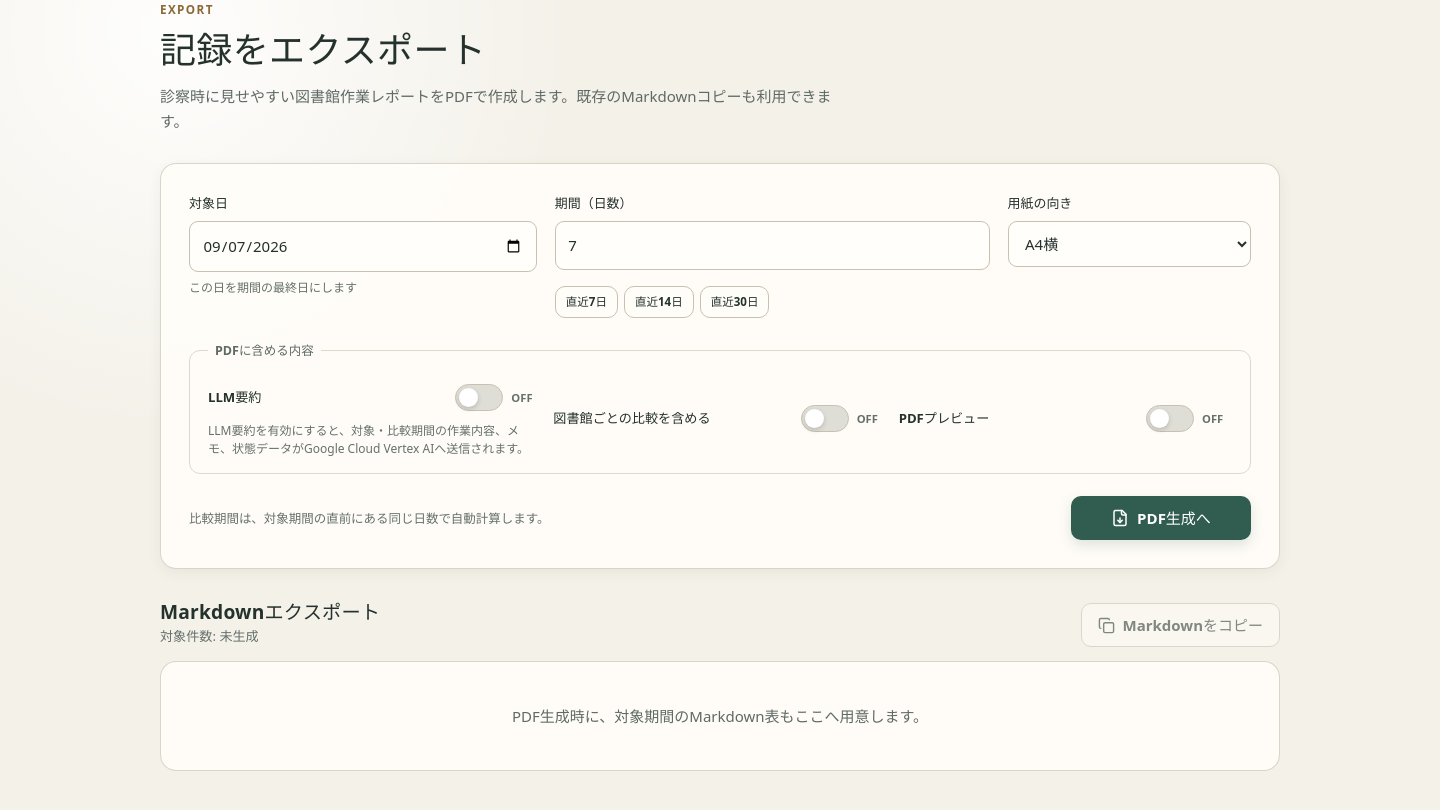
ExportPage › LLM OFFでは一度も要約を呼ばず、直接PDFを生成してMarkdownも維持する
This screenshot has width=1440, height=810.
Click the button "PDF生成へ" at (1161, 518), box [1071,496,1251,540]
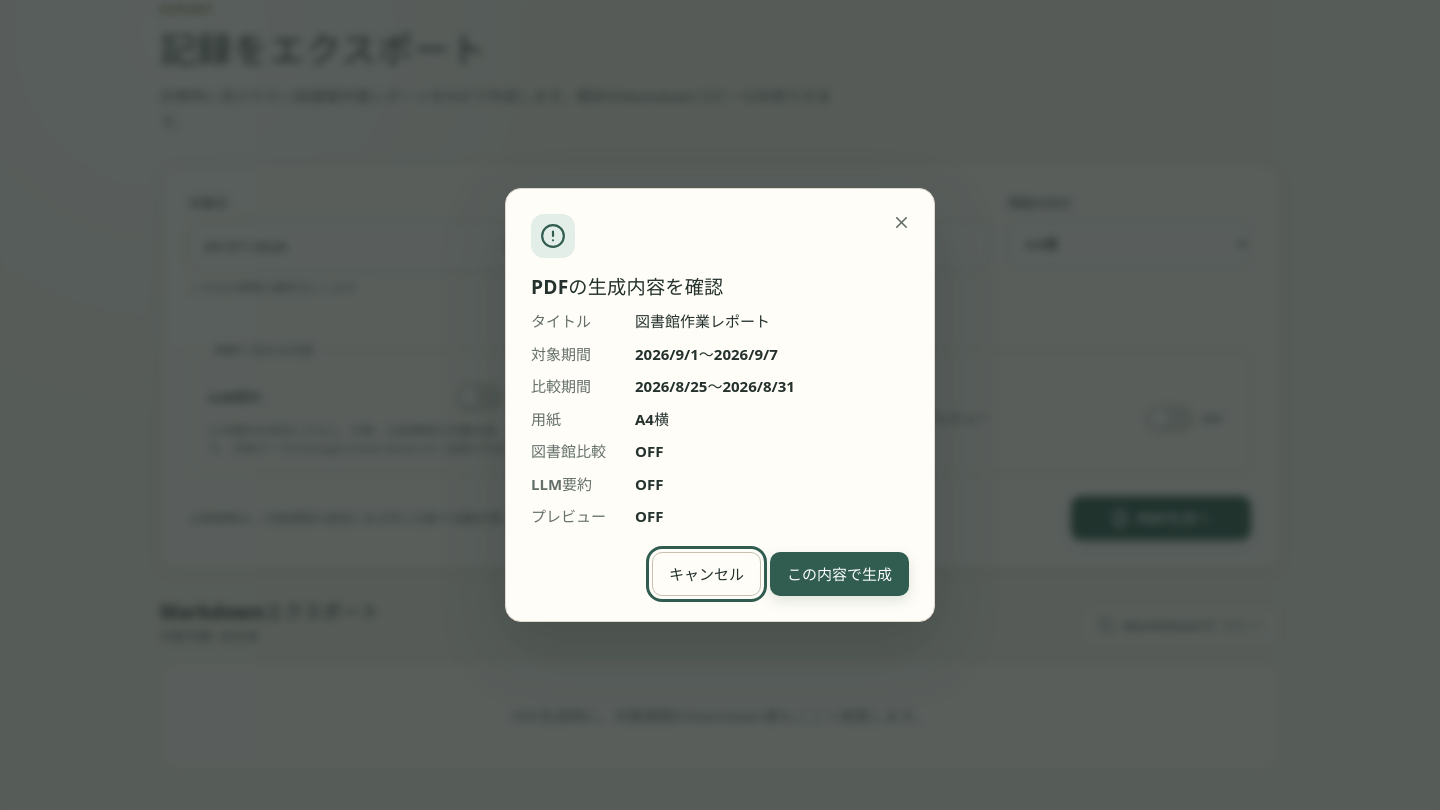
Click the button "この内容で生成" at (840, 574), box [770,552,909,596]
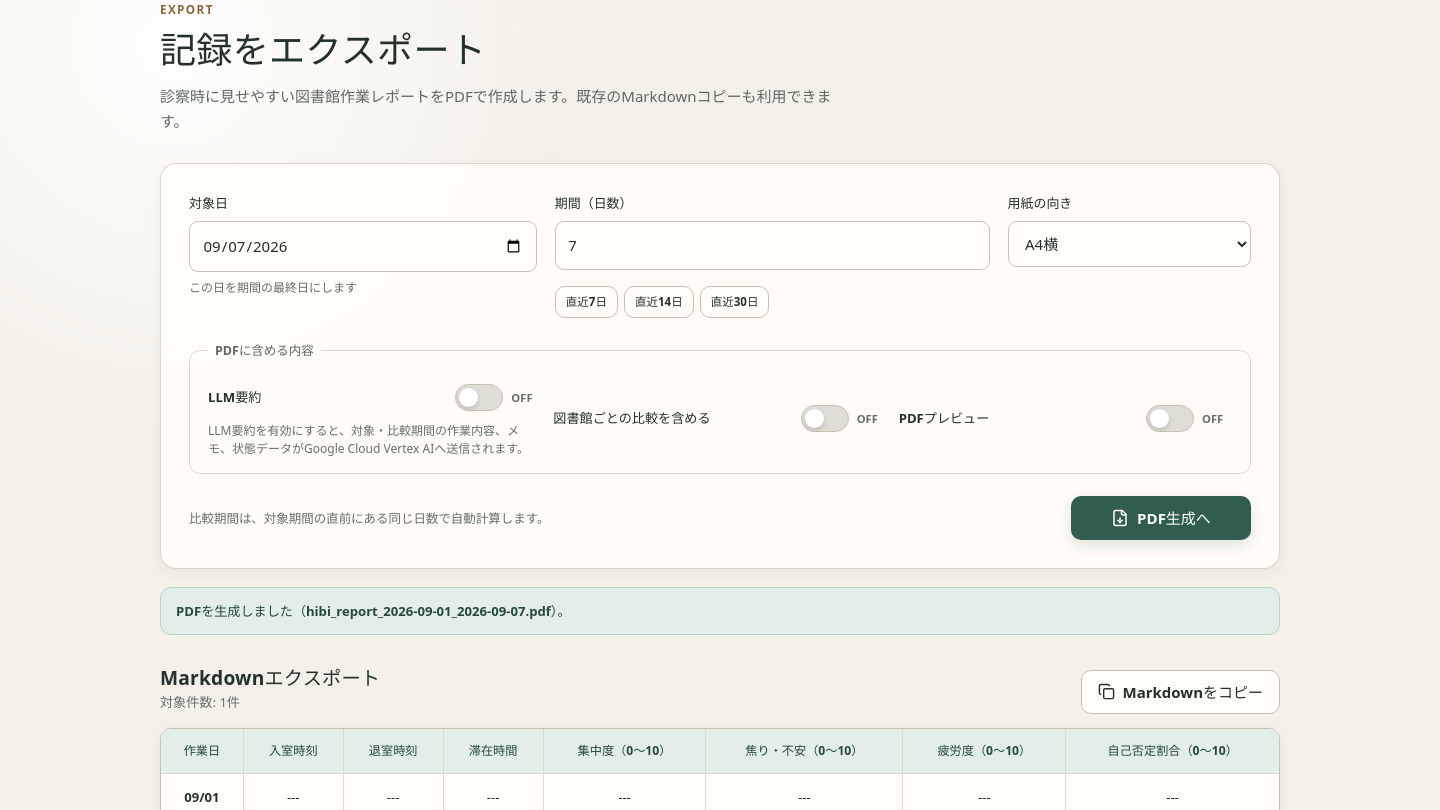
Result: the text "対象件数: 1件" is shown at [160,693,240,711]
